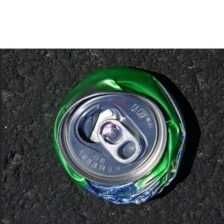can: (50, 63, 192, 207)
